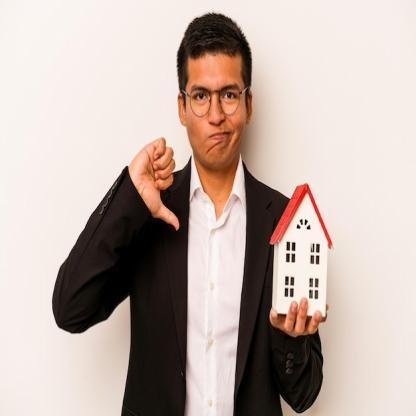thumb_down: (127, 133, 183, 234)
